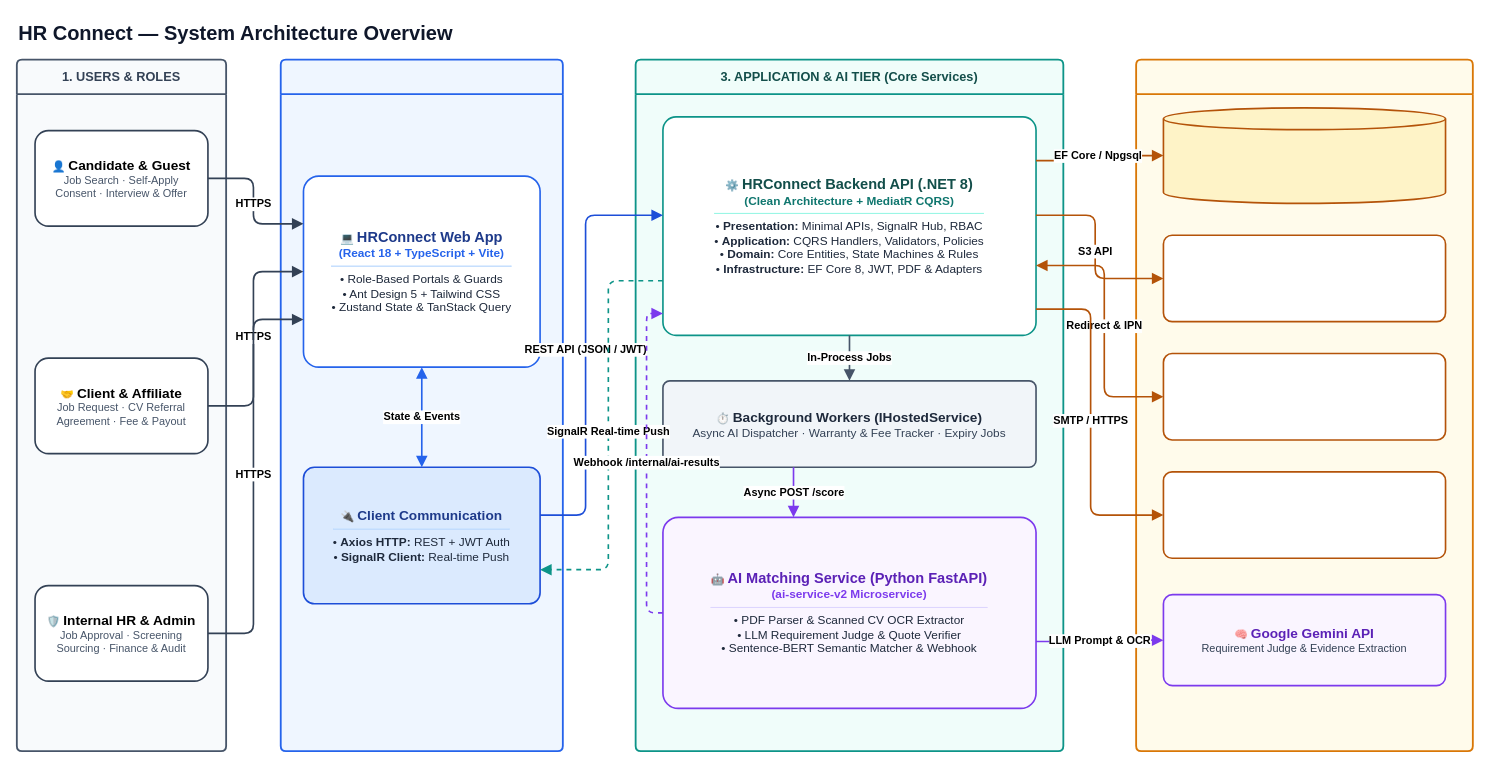
Some shapes in this 1489 by 767 pixel diagram are drawn without their labels. The shapes that lost their labels are listed below. From the top down, each one's box as (x1, y1, x2, y2) in pixels, then its label:
(1162, 107, 1446, 204): 🗄️ PostgreSQL 16 Database Relational Data · ACID · JSONB
(1162, 234, 1446, 322): ☁️ Cloudflare R2 Storage CV PDFs · Signed Agreements · Logos
(279, 58, 563, 752): 2. PRESENTATION TIER (Frontend SPA)
(1162, 352, 1446, 440): 💳 VNPay Payment Gateway Online Checkout & Signed IPN Webhook
(1135, 58, 1473, 752): 4. DATA & EXTERNAL SERVICES TIER
(1162, 471, 1446, 559): ✉️ SMTP / Resend Email Service Transactional Emails · OTP · Consent Links
